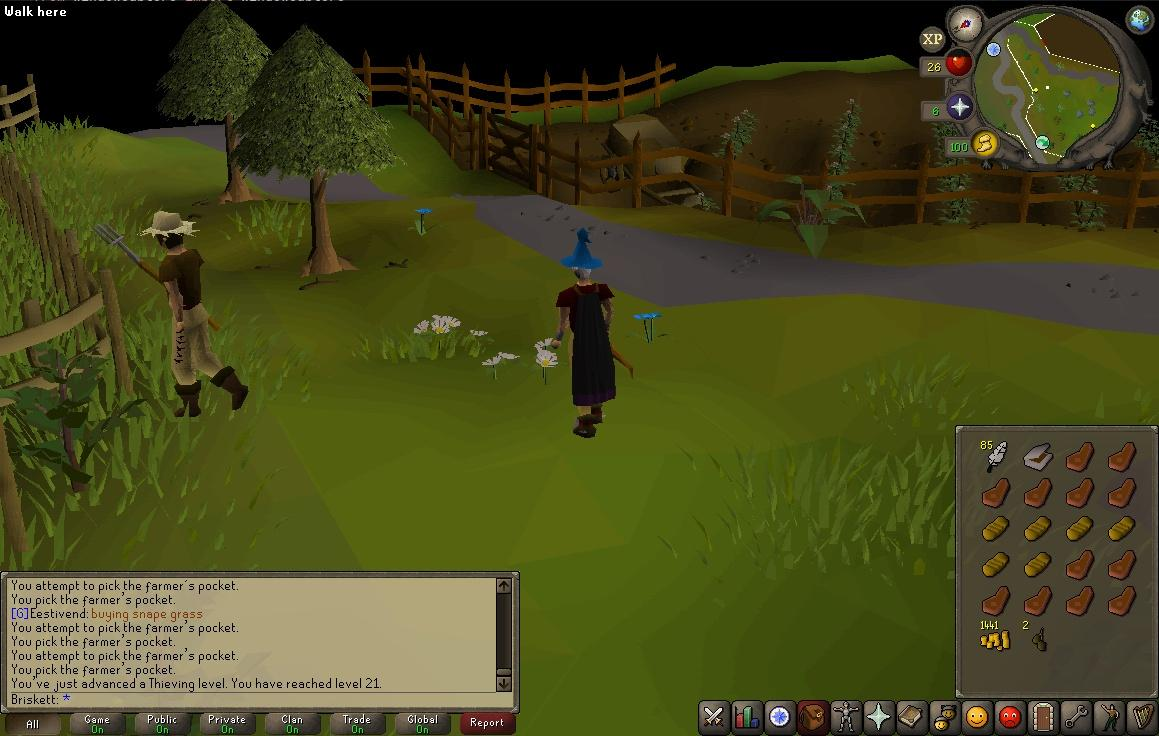Farmer: (137, 210, 250, 419)
